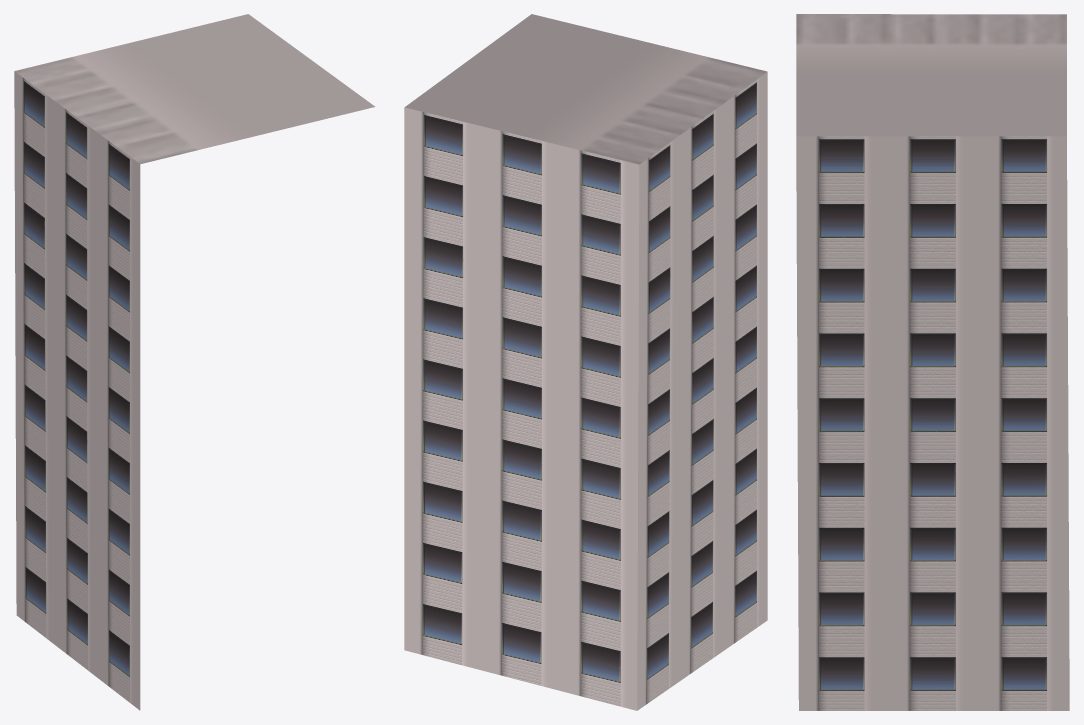
The model's file is AA_TOWER.glb.
The picture shows the model from 3 angles, left to right: view 1: azimuth 30°, elevation 25°; view 2: azimuth 150°, elevation 25°; view 3: azimuth 270°, elevation 25°; orthographic projection. The views are drawn at different scales.
Visible parts, largest first — view 1: AA_TOWER; view 2: AA_TOWER; view 3: AA_TOWER.
Part boxes in pixels (x1,y1,x2,y2): AA_TOWER: (14,14,375,710); AA_TOWER: (404,14,767,710); AA_TOWER: (796,14,1069,710).
Bounding box in the file's own units: 2224 × 4940 × 2101.
Materials: 1 (1 with a texture image).
